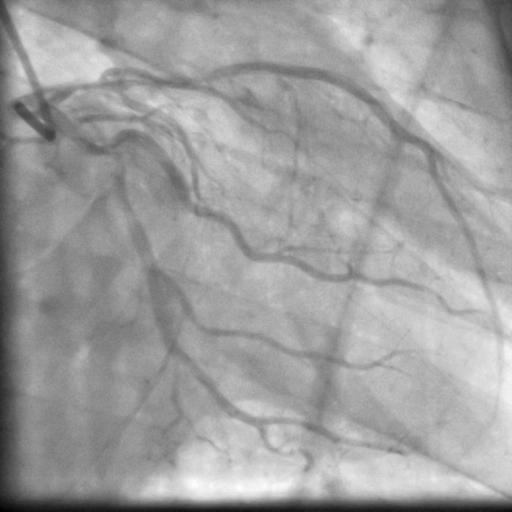Stenosis: (168, 64, 222, 88)
